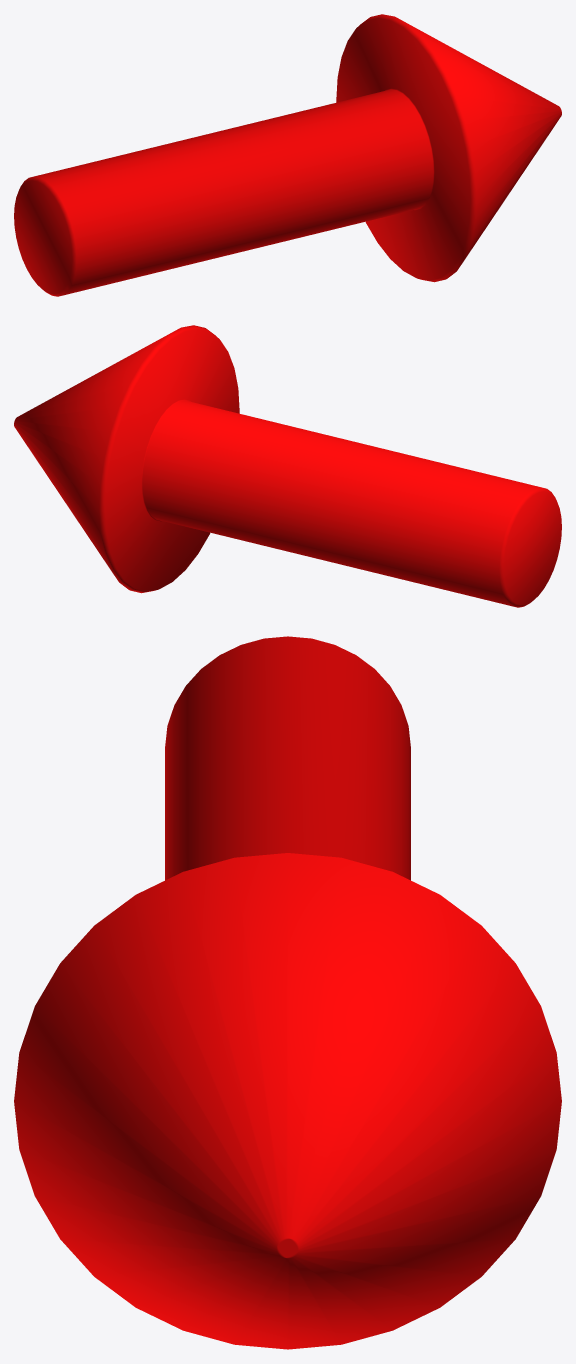
File: Right-Vector.fbx
The picture shows the model from 3 angles, top to bottom: view 1: azimuth 30°, elevation 25°; view 2: azimuth 150°, elevation 25°; view 3: azimuth 270°, elevation 25°; orthographic projection. The views are drawn at different scales.
Parts seen in each view (by area): view 1: Cone; view 2: Cone; view 3: Cone.
Boxes of the visible parts, left/top/right/bottom form: Cone: left=14, top=14, right=561, bottom=296; Cone: left=14, top=325, right=561, bottom=607; Cone: left=14, top=636, right=561, bottom=1349.
Bounding box in the file's own units: 319 × 147 × 147.
